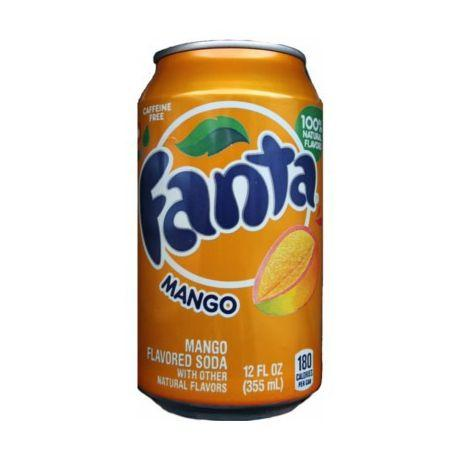metal: (138, 40, 323, 420)
